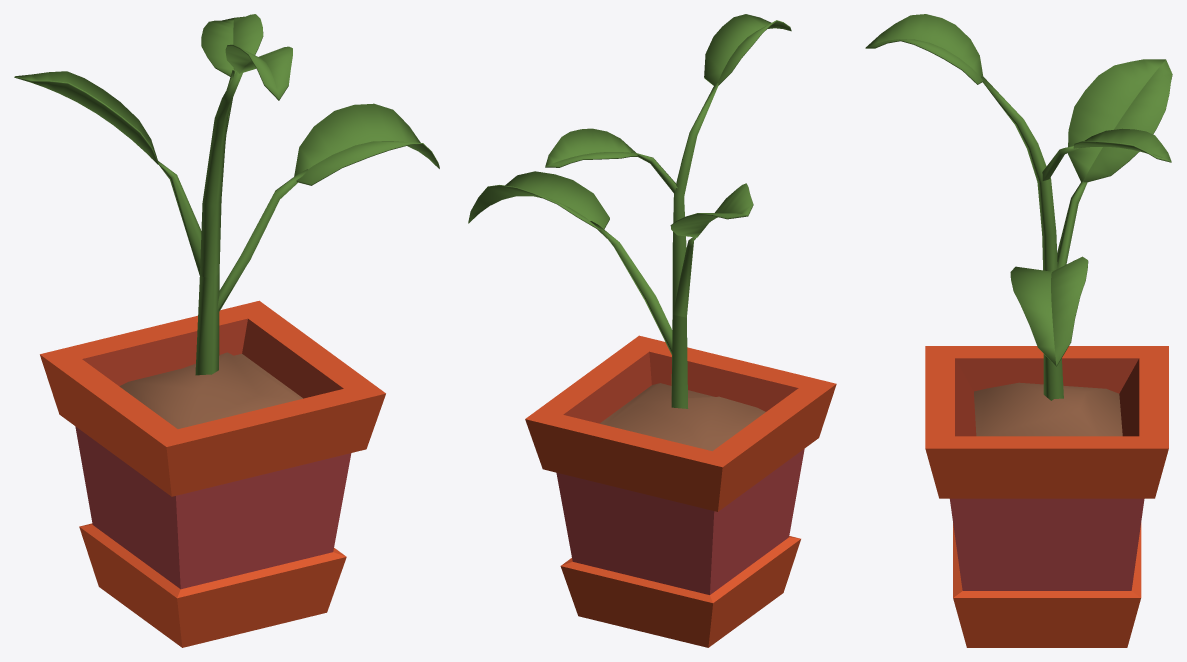
The model's file is PlantSapling.glb.
3 renders of one model, left to right at view 1: azimuth 30°, elevation 25°; view 2: azimuth 150°, elevation 25°; view 3: azimuth 270°, elevation 25°, orthographic. The views are drawn at different scales.
Parts seen in each view (by area): view 1: PlantSapling; view 2: PlantSapling; view 3: PlantSapling.
Part boxes in pixels (box(x1,y1,x2,y2)): PlantSapling: box(14, 14, 439, 647); PlantSapling: box(468, 14, 836, 647); PlantSapling: box(865, 14, 1172, 647).
Size of the model in its own units: 0.6798 by 1.07 by 0.511.
1 material, 1 textured.
